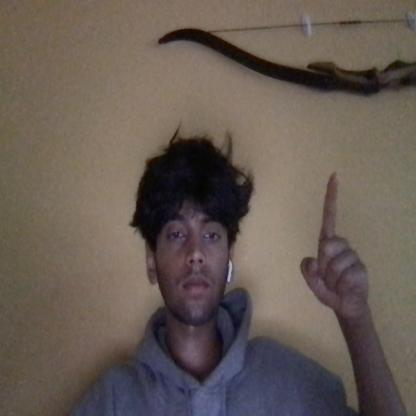finger_point: (310, 159, 353, 204)
